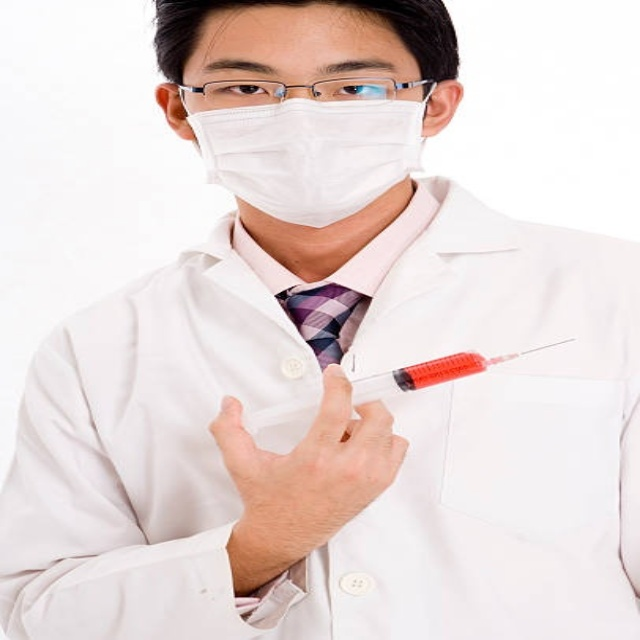Gafas: (174, 76, 439, 108)
Mascara: (184, 90, 433, 226)
Sin_guantes: (209, 365, 408, 560)
